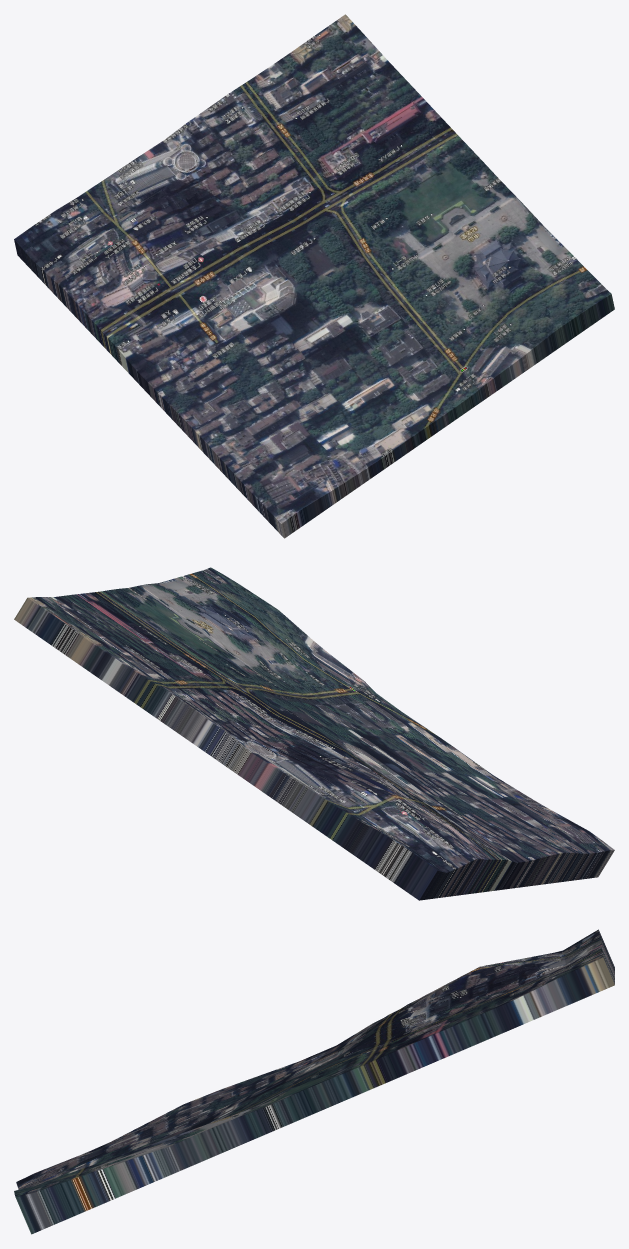
3 renders of one model, top to bottom at view 1: azimuth 30°, elevation 25°; view 2: azimuth 150°, elevation 25°; view 3: azimuth 270°, elevation 25°, orthographic. The views are drawn at different scales.
Visible parts, largest first — view 1: 0_8_11; view 2: 0_8_11; view 3: 0_8_11.
Boxes of the visible parts, x1,y1,x2,y2 form: 0_8_11: (14,14,614,538); 0_8_11: (14,567,614,900); 0_8_11: (14,929,614,1234).
Size of the model in its own units: 606 by 452 by 558.
1 material, 1 textured.
